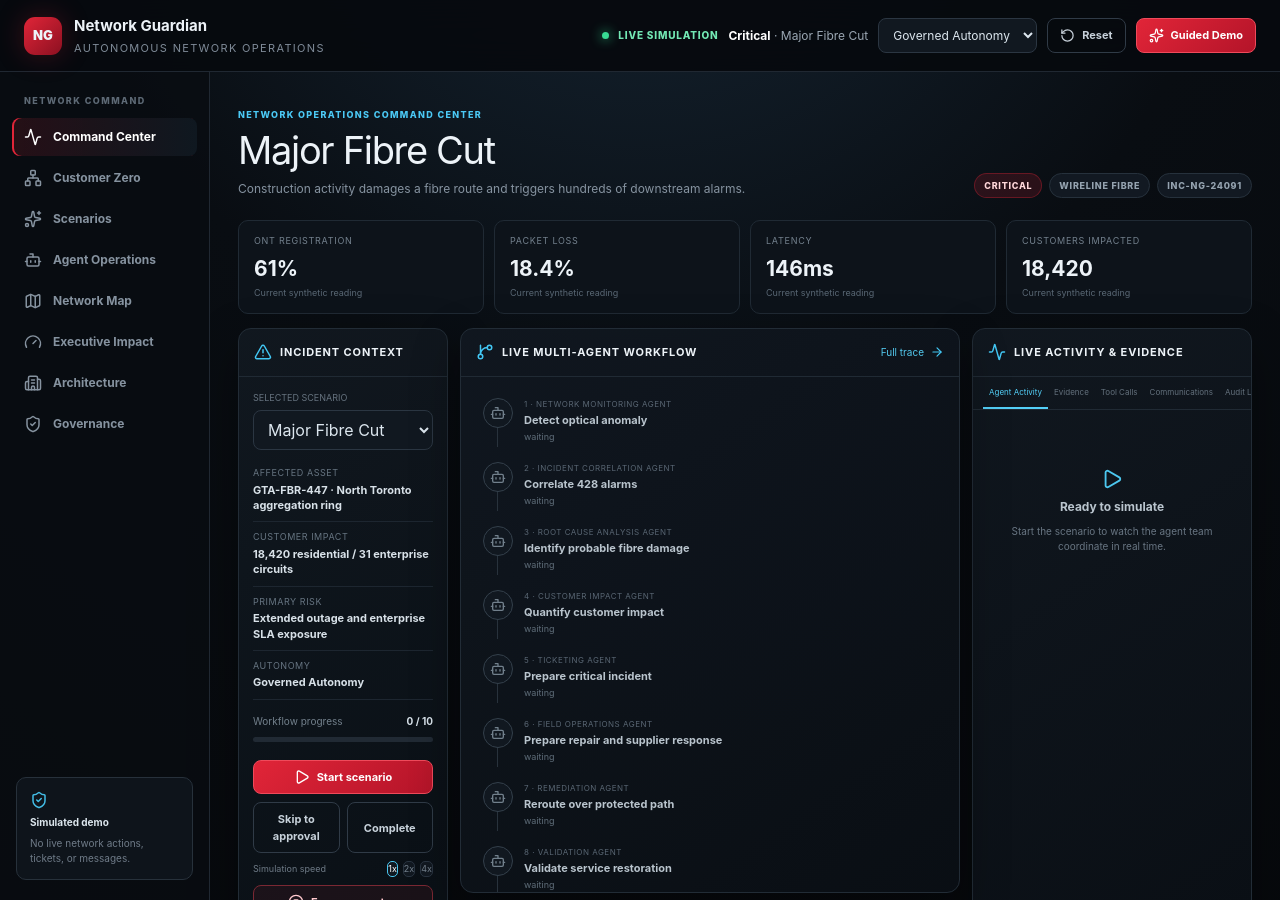
it: Network Guardian › selecting a scenario resets workflow state
The image size is (1280, 900).
Click the button "Start scenario" at (343, 777), box [253,760,433,794]
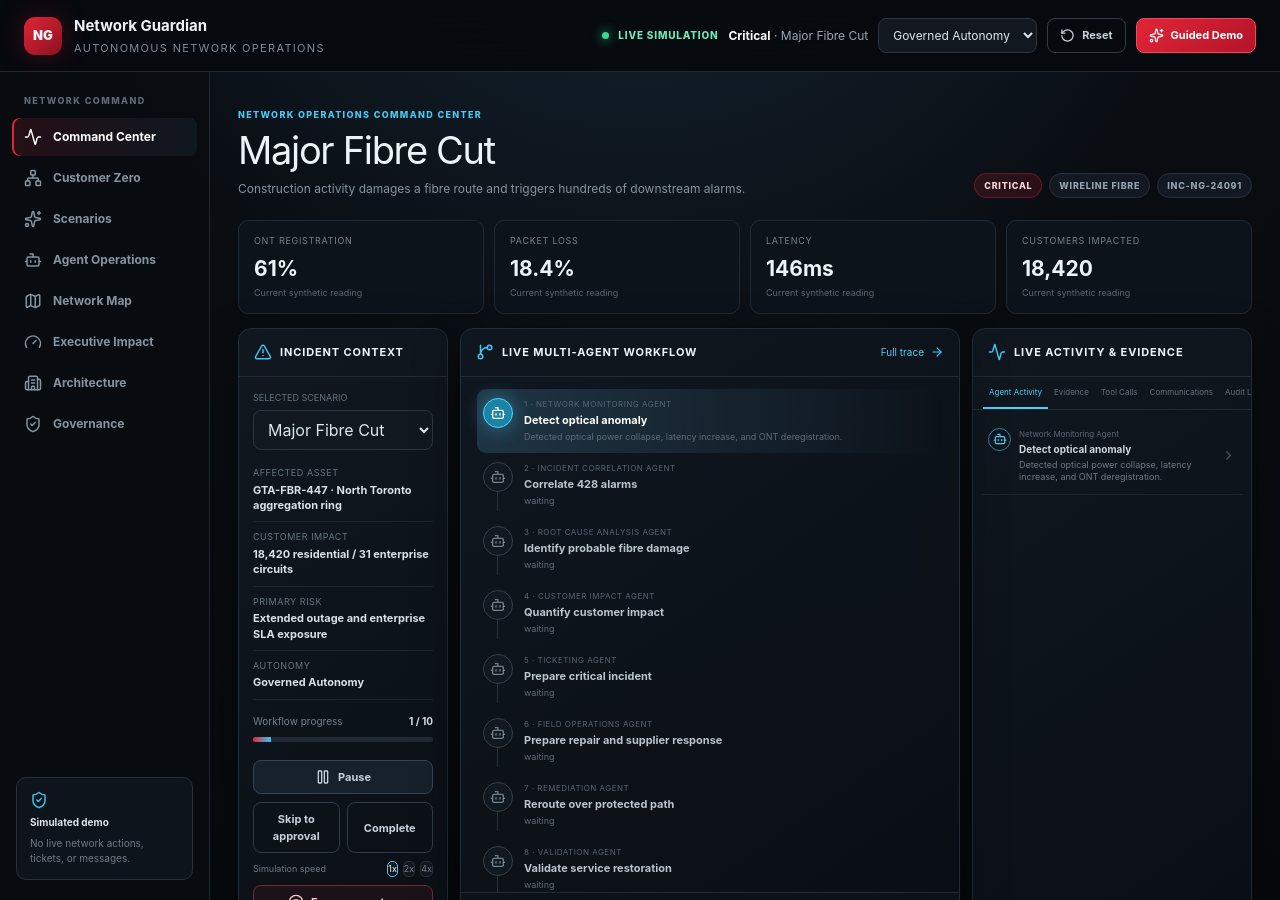
Click the button "Audit Log" at (1243, 393), box [1219,377,1267,409]
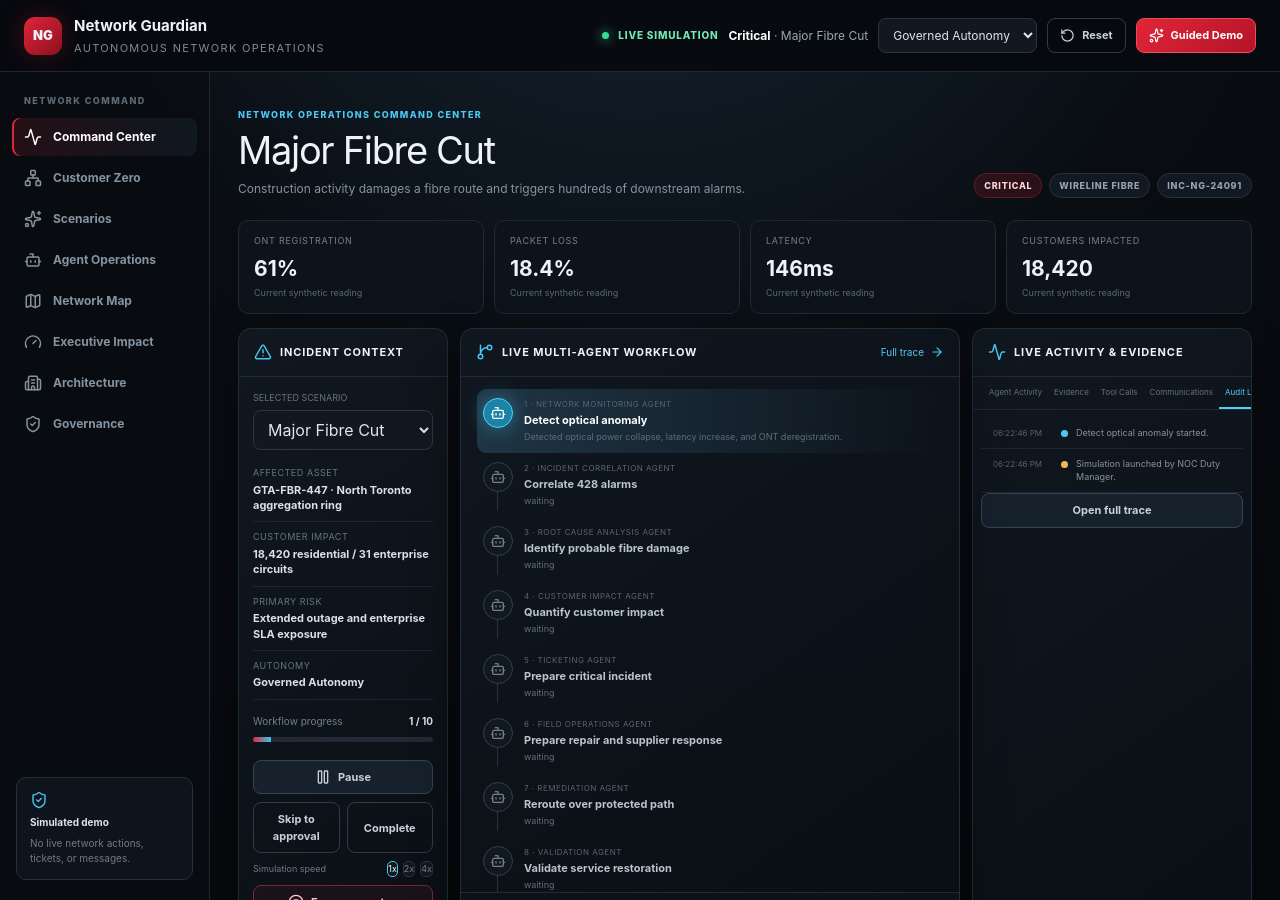
Check: the text "Detect optical anomaly started." is shown, box [1076,427,1231,439]
Select "DOCSIS Congestion & Noise" in the dropdown labelled "Selected scenario" at (343, 430), box [253,410,433,450]
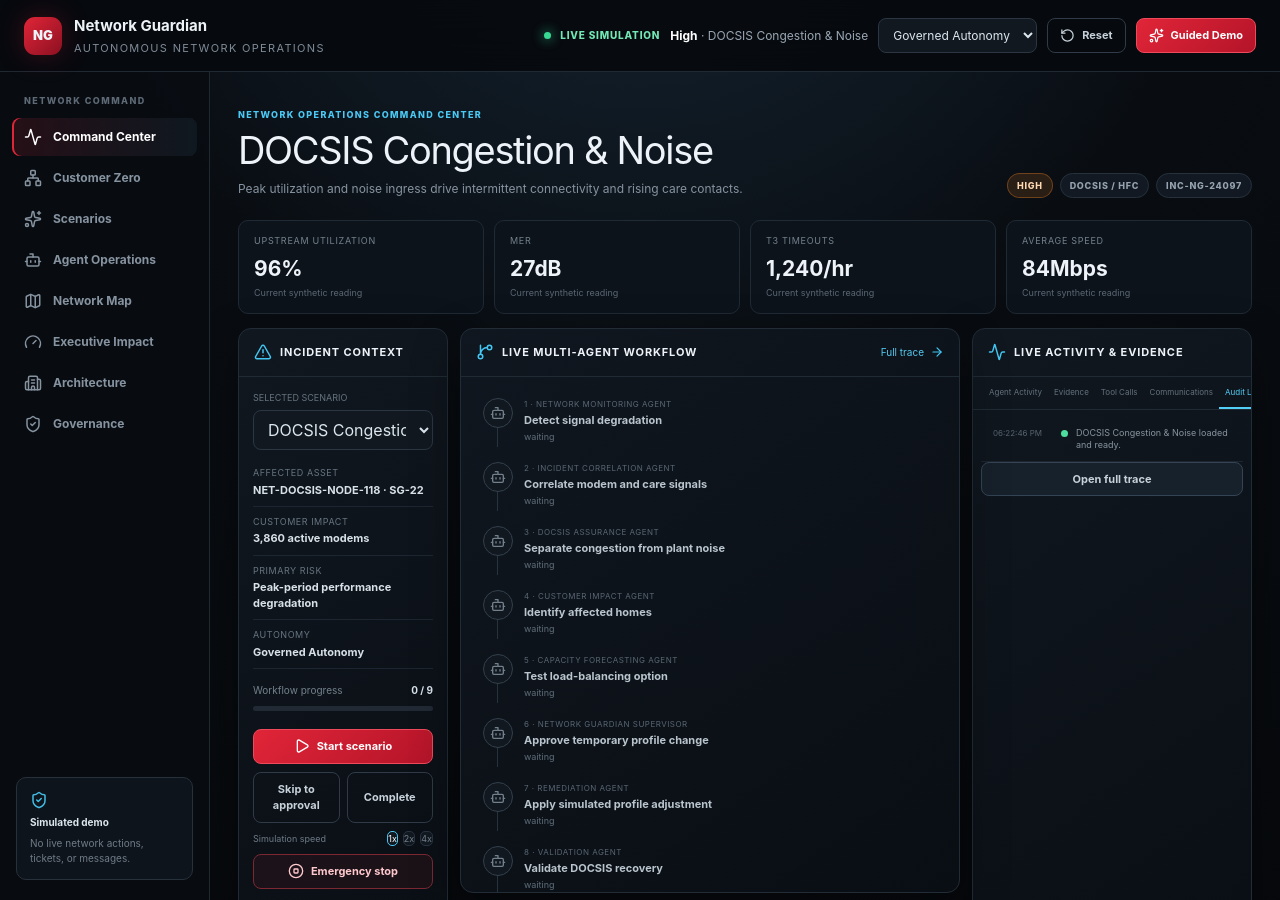
Check: the heading "DOCSIS Congestion & Noise" is shown, box [238,131,743,171]
Check: the text "0 / 9" is shown, box [411,683,433,698]
